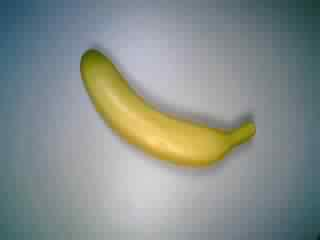banana: (77, 45, 265, 173)
